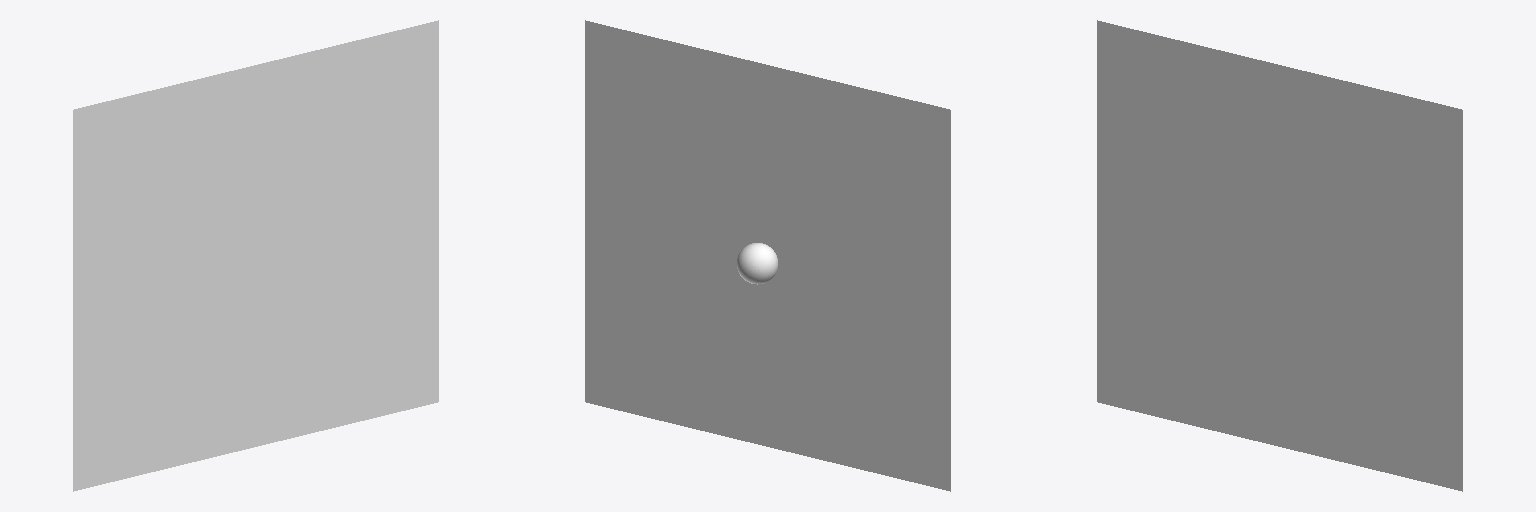
URDF robot description (ball):
<robot name="ball">
	<link name="_name">
		<visual>
			<origin rpy="0 0 0" xyz="0.0 -0.993855 10.0" />
			<geometry>
				<mesh filename="ball/basketball.obj" scale="1.0 1.0 1.0" />
			</geometry>
			<material name="texture">
				<color rgba="1.0 1.0 1.0 1.0" />
			</material>
		</visual>
		<collision>
			<geometry>
				<mesh filename="ball/basketball_vhacd.obj" scale="1.0 1.0 1.0" />
			</geometry>
		<origin rpy="0 0 0" xyz="0.0 -0.993855 10.0" /></collision>
		<inertial>
			<mass value="1.0" />
			<inertia ixx="1.0" ixy="0.0" ixz="0.0" iyy="1.0" iyz="0.0" izz="1.0" />
		</inertial>
	</link>
</robot>

--- Render facts (derived) ---
3 views of the same robot in one strip: view 1: azimuth 30°, elevation 25°; view 2: azimuth 150°, elevation 25°; view 3: azimuth 330°, elevation 25° (orthographic).
Model ball with 1 links and 0 joints (none), rooted at _name, posed every joint at zero.
Visible links, largest first — view 1: _name; view 2: _name; view 3: _name.
Link boxes in pixels (<box>): _name: <box>73,20,438,491</box>; _name: <box>585,20,950,491</box>; _name: <box>1097,20,1462,491</box>.
Bounding box of the posed robot: 20 × 1.99 × 20 m (x, y, z).
Meshes: 1 distinct files referenced, 1 mesh visuals loaded (1 OBJ).